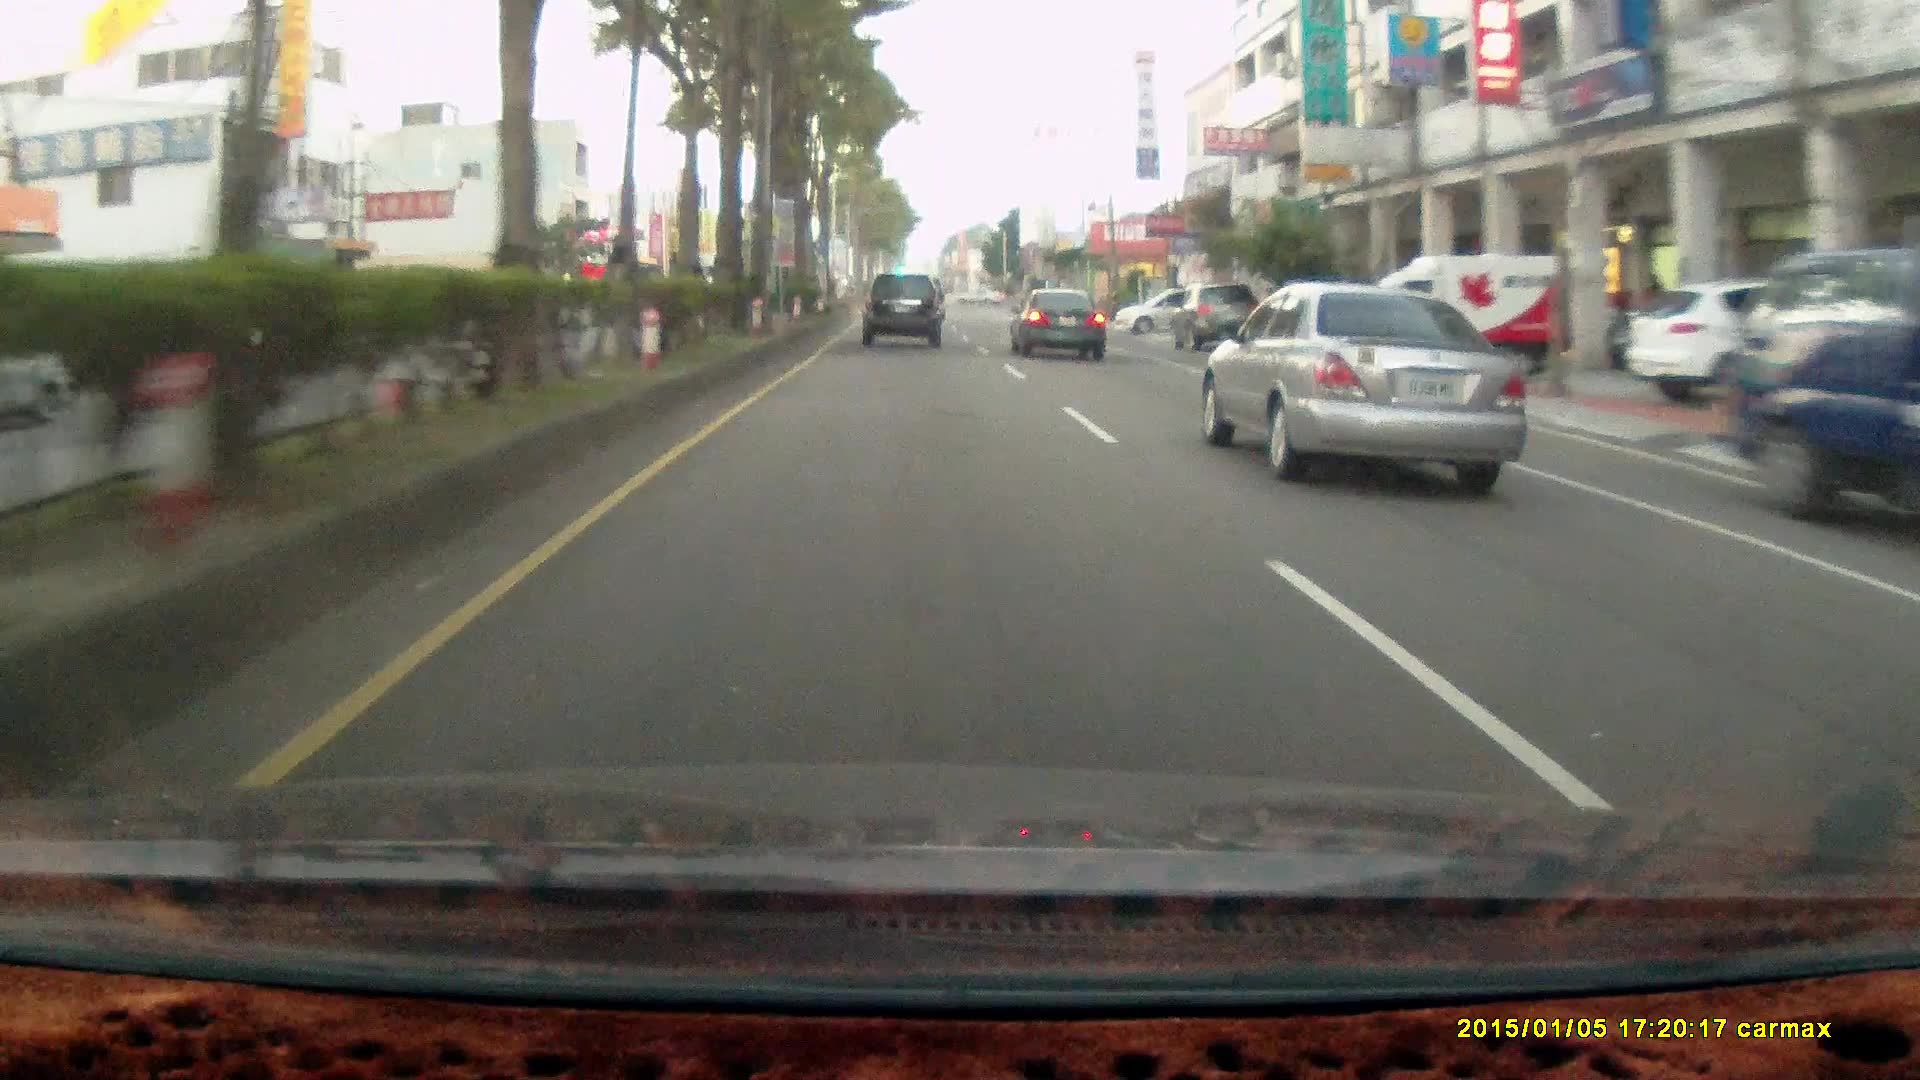vehicle: (1211, 289, 1538, 489), (1721, 248, 1920, 535), (1621, 280, 1880, 409), (1358, 252, 1572, 384), (1357, 252, 1564, 385), (1009, 287, 1110, 365), (1010, 287, 1106, 360), (862, 276, 949, 351), (860, 272, 942, 347), (1167, 286, 1259, 352), (1178, 287, 1265, 357)
